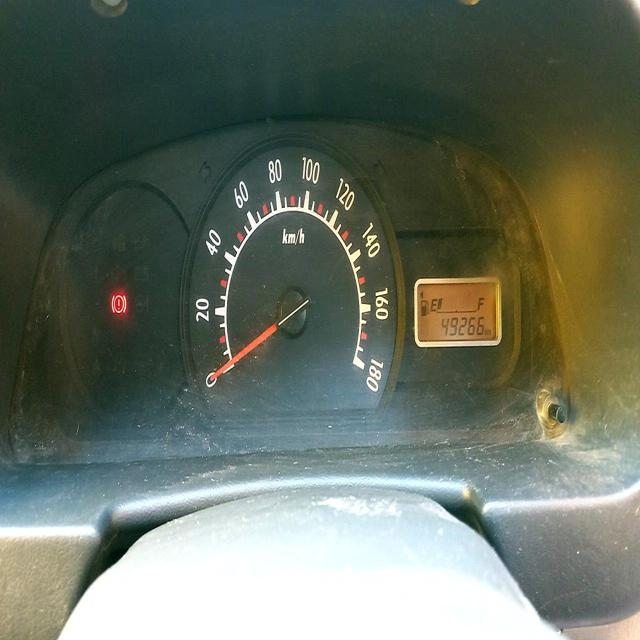odometer: (441, 312, 487, 342)
